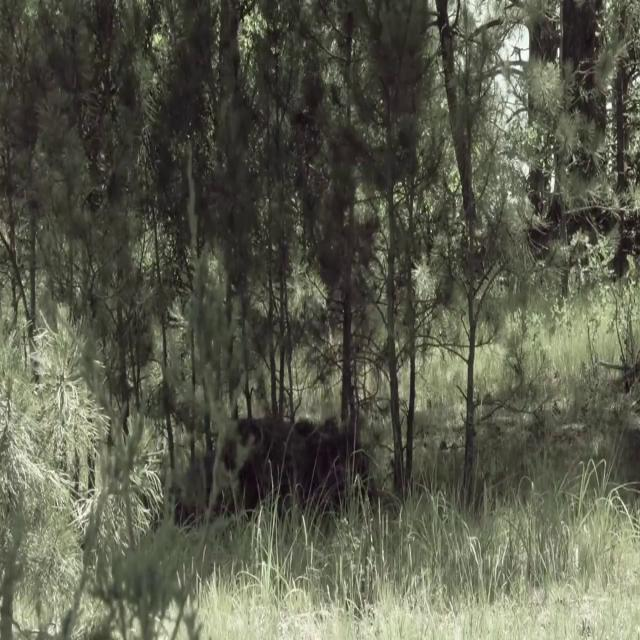Camouflage: (187, 421, 380, 508)
